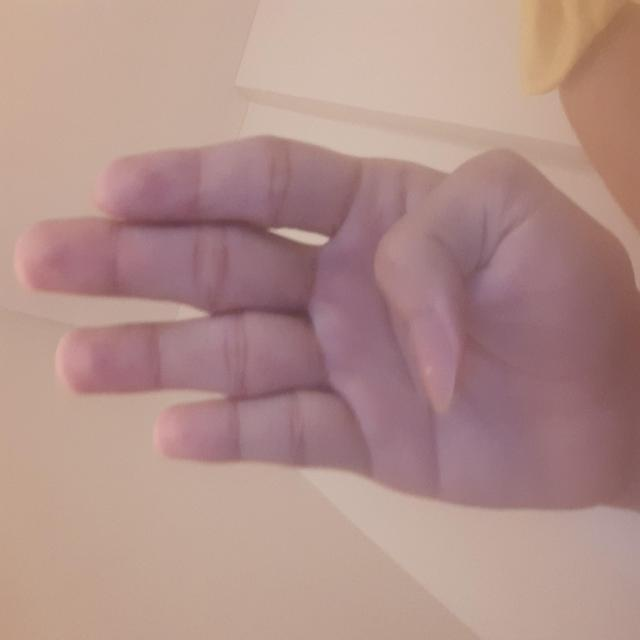B: (135, 14, 501, 636)
